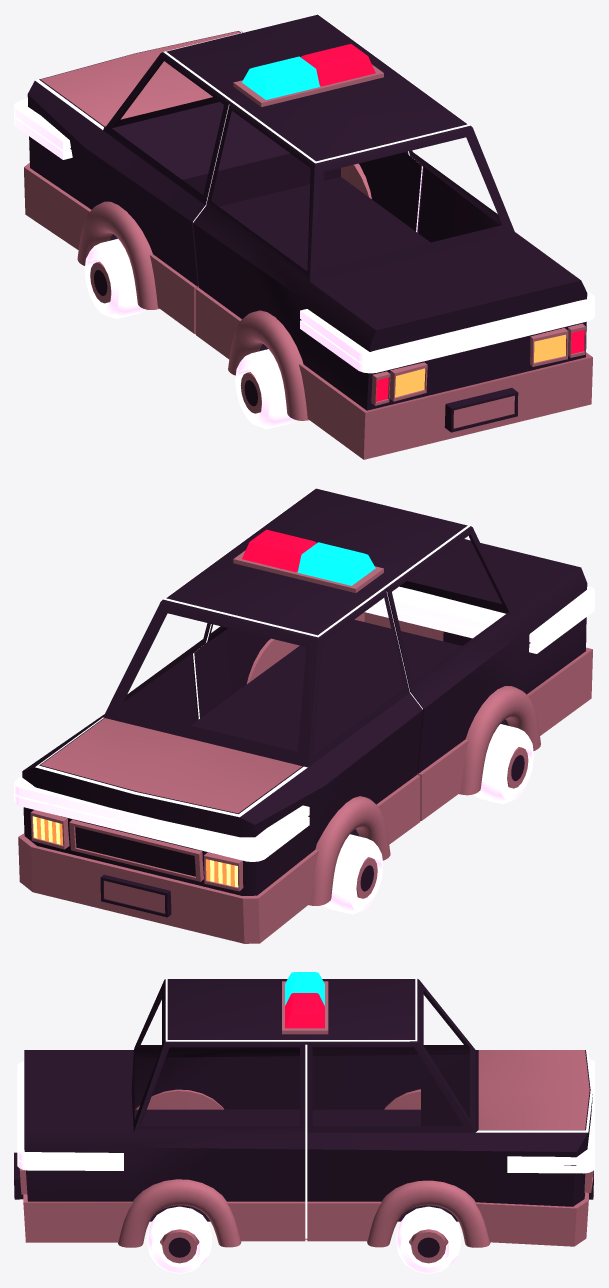
File: Police_car.fbx
3 views of the same model, one above another, from view 1: azimuth 30°, elevation 25°; view 2: azimuth 150°, elevation 25°; view 3: azimuth 270°, elevation 25° (orthographic). The views are drawn at different scales.
Parts seen in each view (by area): view 1: Cube.017, Cube.018, Cube.028, Cylinder.011, Cube.021, Cube.025, Cube.026, Cube.024, Cube.027, Cube.023; view 2: Cube.017, Cube.018, Cube.024, Cylinder.011, Cube.028, Cube.020, Cube.021, Cube.022, Cube.019, Cube.023; view 3: Cube.017, Cube.018, Cylinder.011, Cube.028, Cube.021, Cube.024, Cube.023.
Boxes of the visible parts, x1,y1,x2,y2 form: Cube.017: (24, 14, 592, 459); Cube.018: (77, 163, 371, 420); Cube.028: (300, 289, 594, 373); Cylinder.011: (84, 239, 295, 429); Cube.021: (242, 44, 375, 99); Cube.025: (389, 327, 568, 401); Cube.026: (444, 388, 518, 432); Cube.024: (14, 99, 72, 159); Cube.027: (371, 323, 585, 405); Cube.023: (233, 64, 383, 106); Cube.017: (18, 488, 592, 943); Cube.018: (247, 638, 540, 905); Cube.024: (14, 776, 309, 861); Cylinder.011: (323, 724, 533, 914); Cube.028: (365, 585, 594, 653); Cube.020: (69, 819, 203, 881); Cube.021: (242, 529, 375, 585); Cube.022: (30, 810, 243, 891); Cube.019: (100, 874, 171, 917); Cube.023: (233, 550, 383, 592); Cube.017: (23, 978, 592, 1246); Cube.018: (118, 1089, 490, 1247); Cylinder.011: (147, 1206, 460, 1273); Cube.028: (17, 1061, 123, 1170); Cube.021: (285, 972, 324, 1028); Cube.024: (507, 1059, 594, 1173); Cube.023: (282, 981, 328, 1034).
Size of the model in its own units: 222 by 220 by 500.
